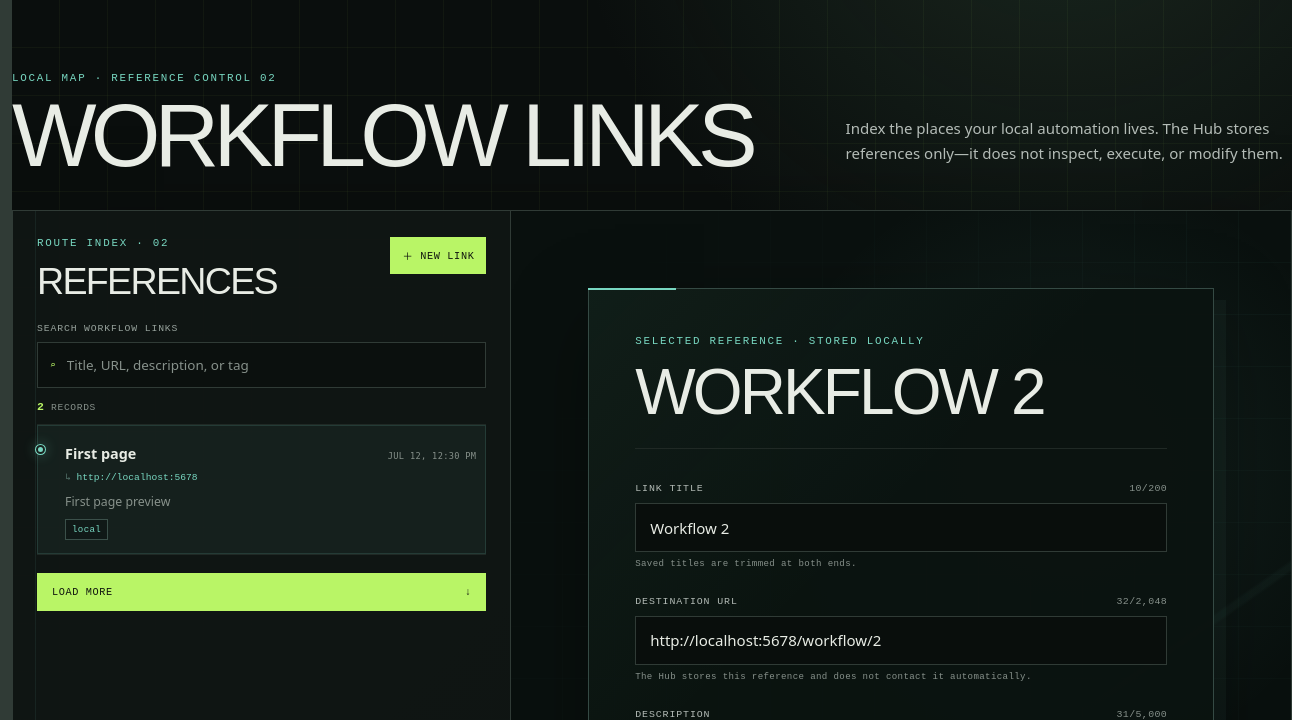
Workflow Links directory › ignores a stale page after a replacement filter takes ownership
Expected: the button "First page" is shown, [55,430,486,519]
Click the button with aria-label "Load more workflow links" at (82, 592), box [37,573,486,611]
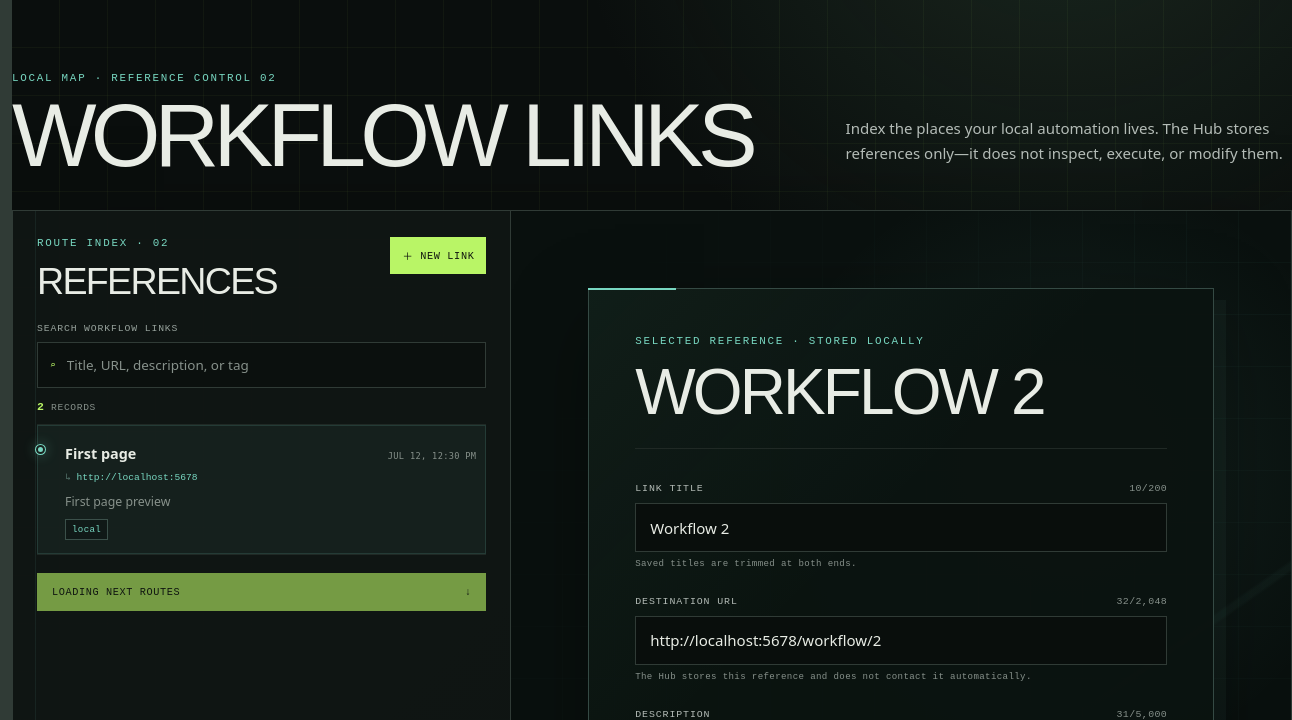
Click the button with aria-label "Filter by tag local" at (87, 529), box [65,519,108,540]
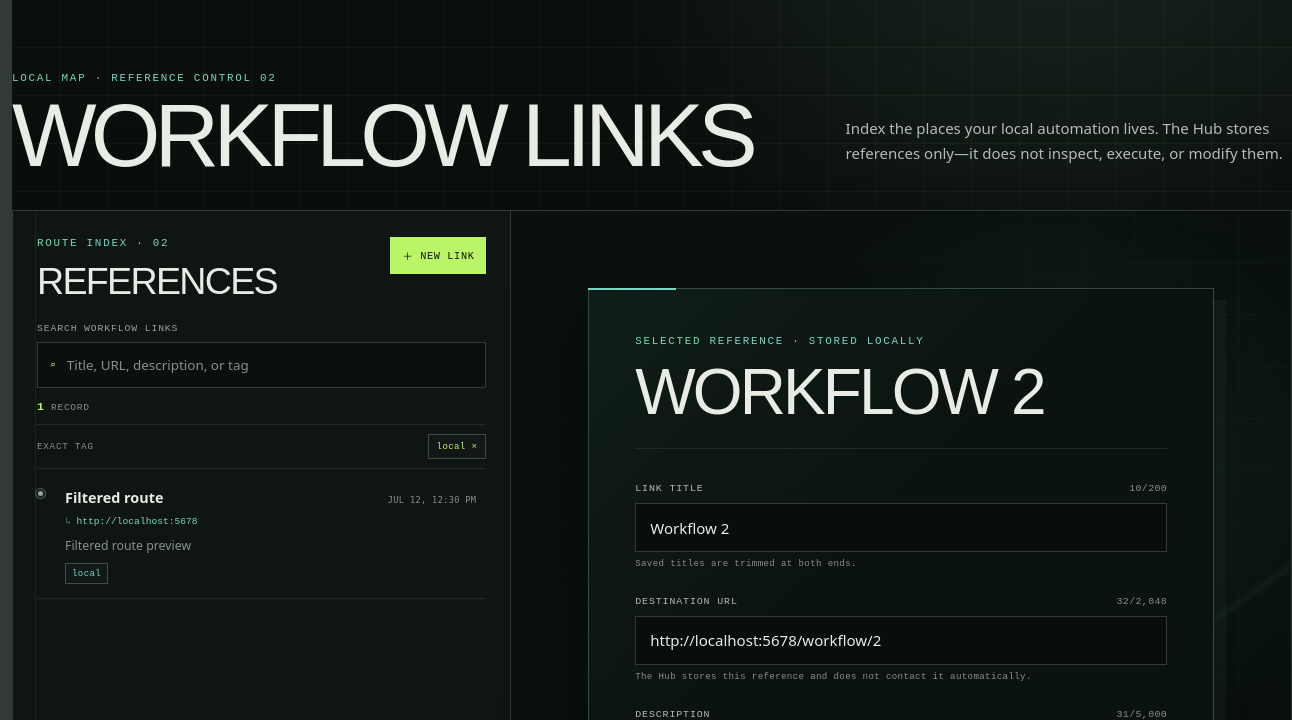
Result: the button "Filtered route" is shown at [55,474,486,563]
